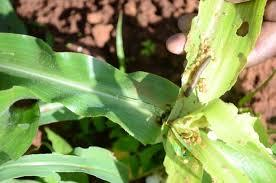fallarmy_worm: (183, 51, 213, 102)
